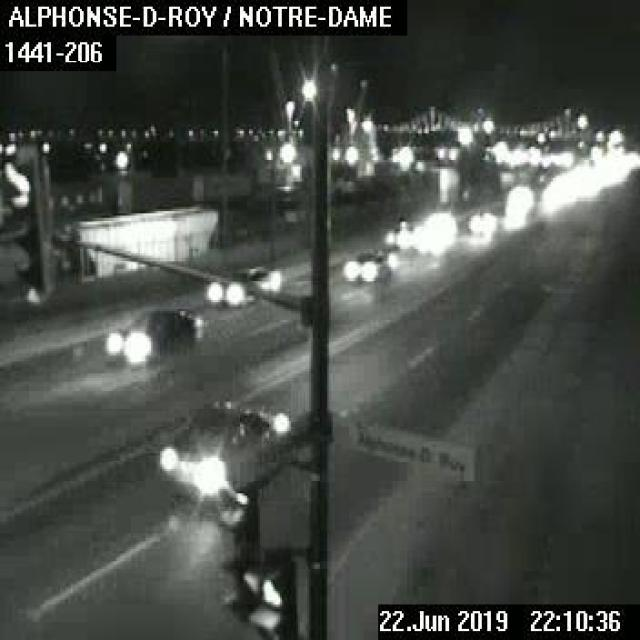vehicle: (156, 404, 280, 509), (109, 304, 198, 360), (207, 264, 280, 304), (349, 247, 393, 280)
